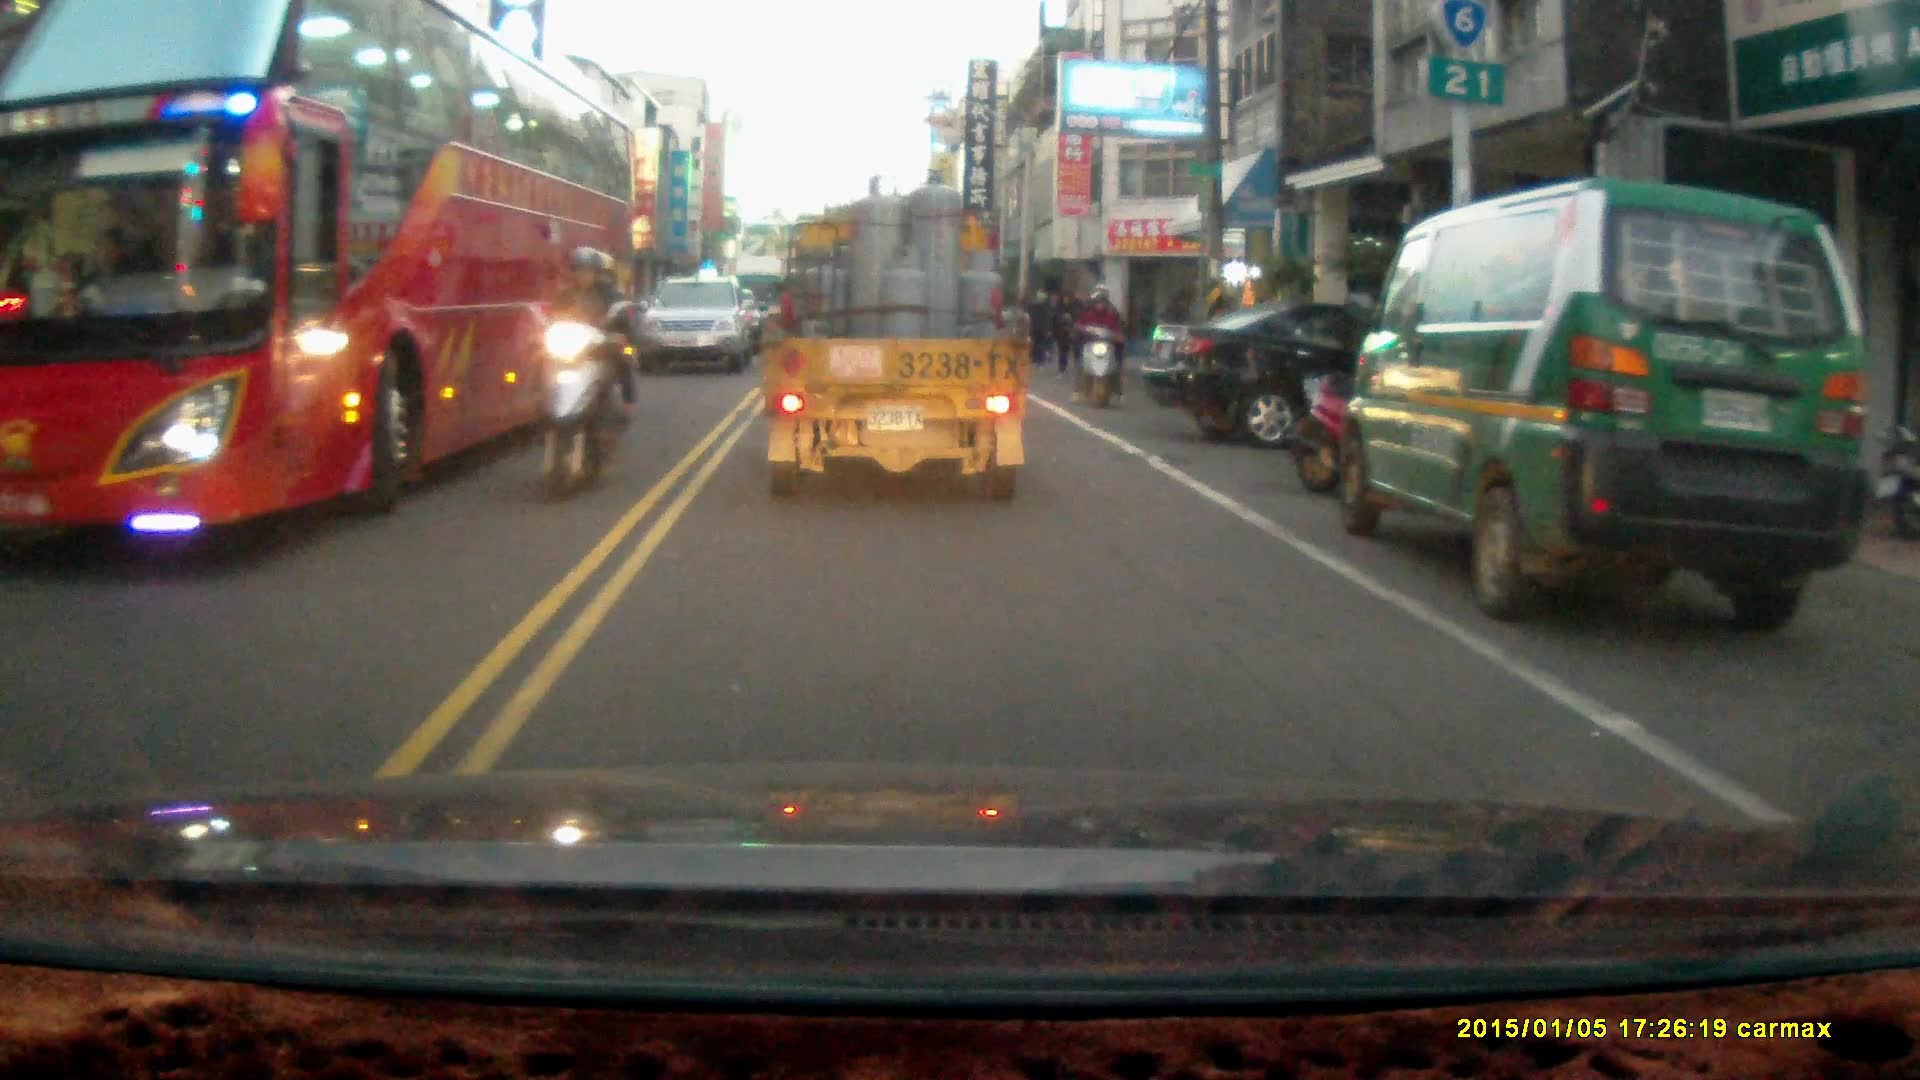pedestrian: (1051, 288, 1077, 378)
rider: (520, 244, 639, 504), (1071, 282, 1129, 410)
vehicle: (1, 7, 644, 545), (1343, 175, 1885, 629), (756, 168, 1035, 503), (1158, 295, 1366, 454), (638, 276, 757, 379)
